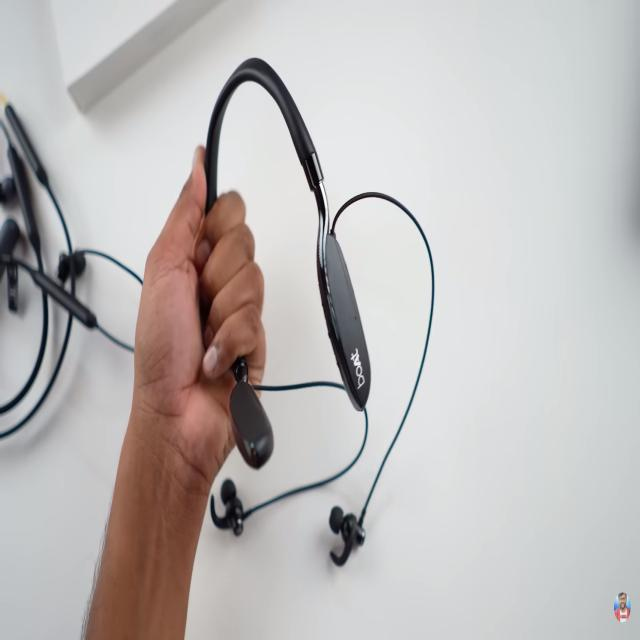Neckband: (205, 54, 434, 567), (0, 106, 146, 438)
